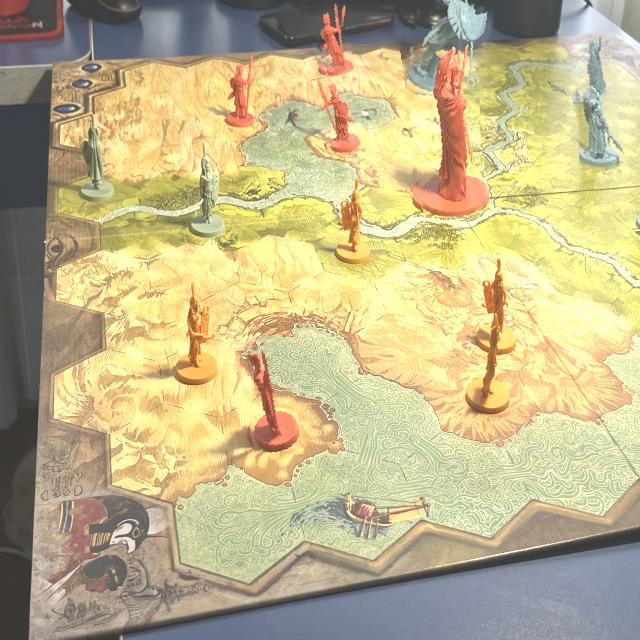amon: (406, 40, 486, 217)
amon_follower: (238, 334, 300, 460), (315, 73, 364, 158), (312, 2, 352, 77), (220, 53, 260, 126)
isis: (408, 0, 485, 99)
isis_follower: (574, 82, 622, 172), (568, 30, 618, 100)
